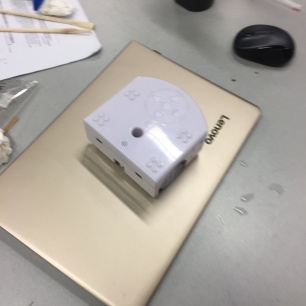thymio: (80, 69, 216, 203)
